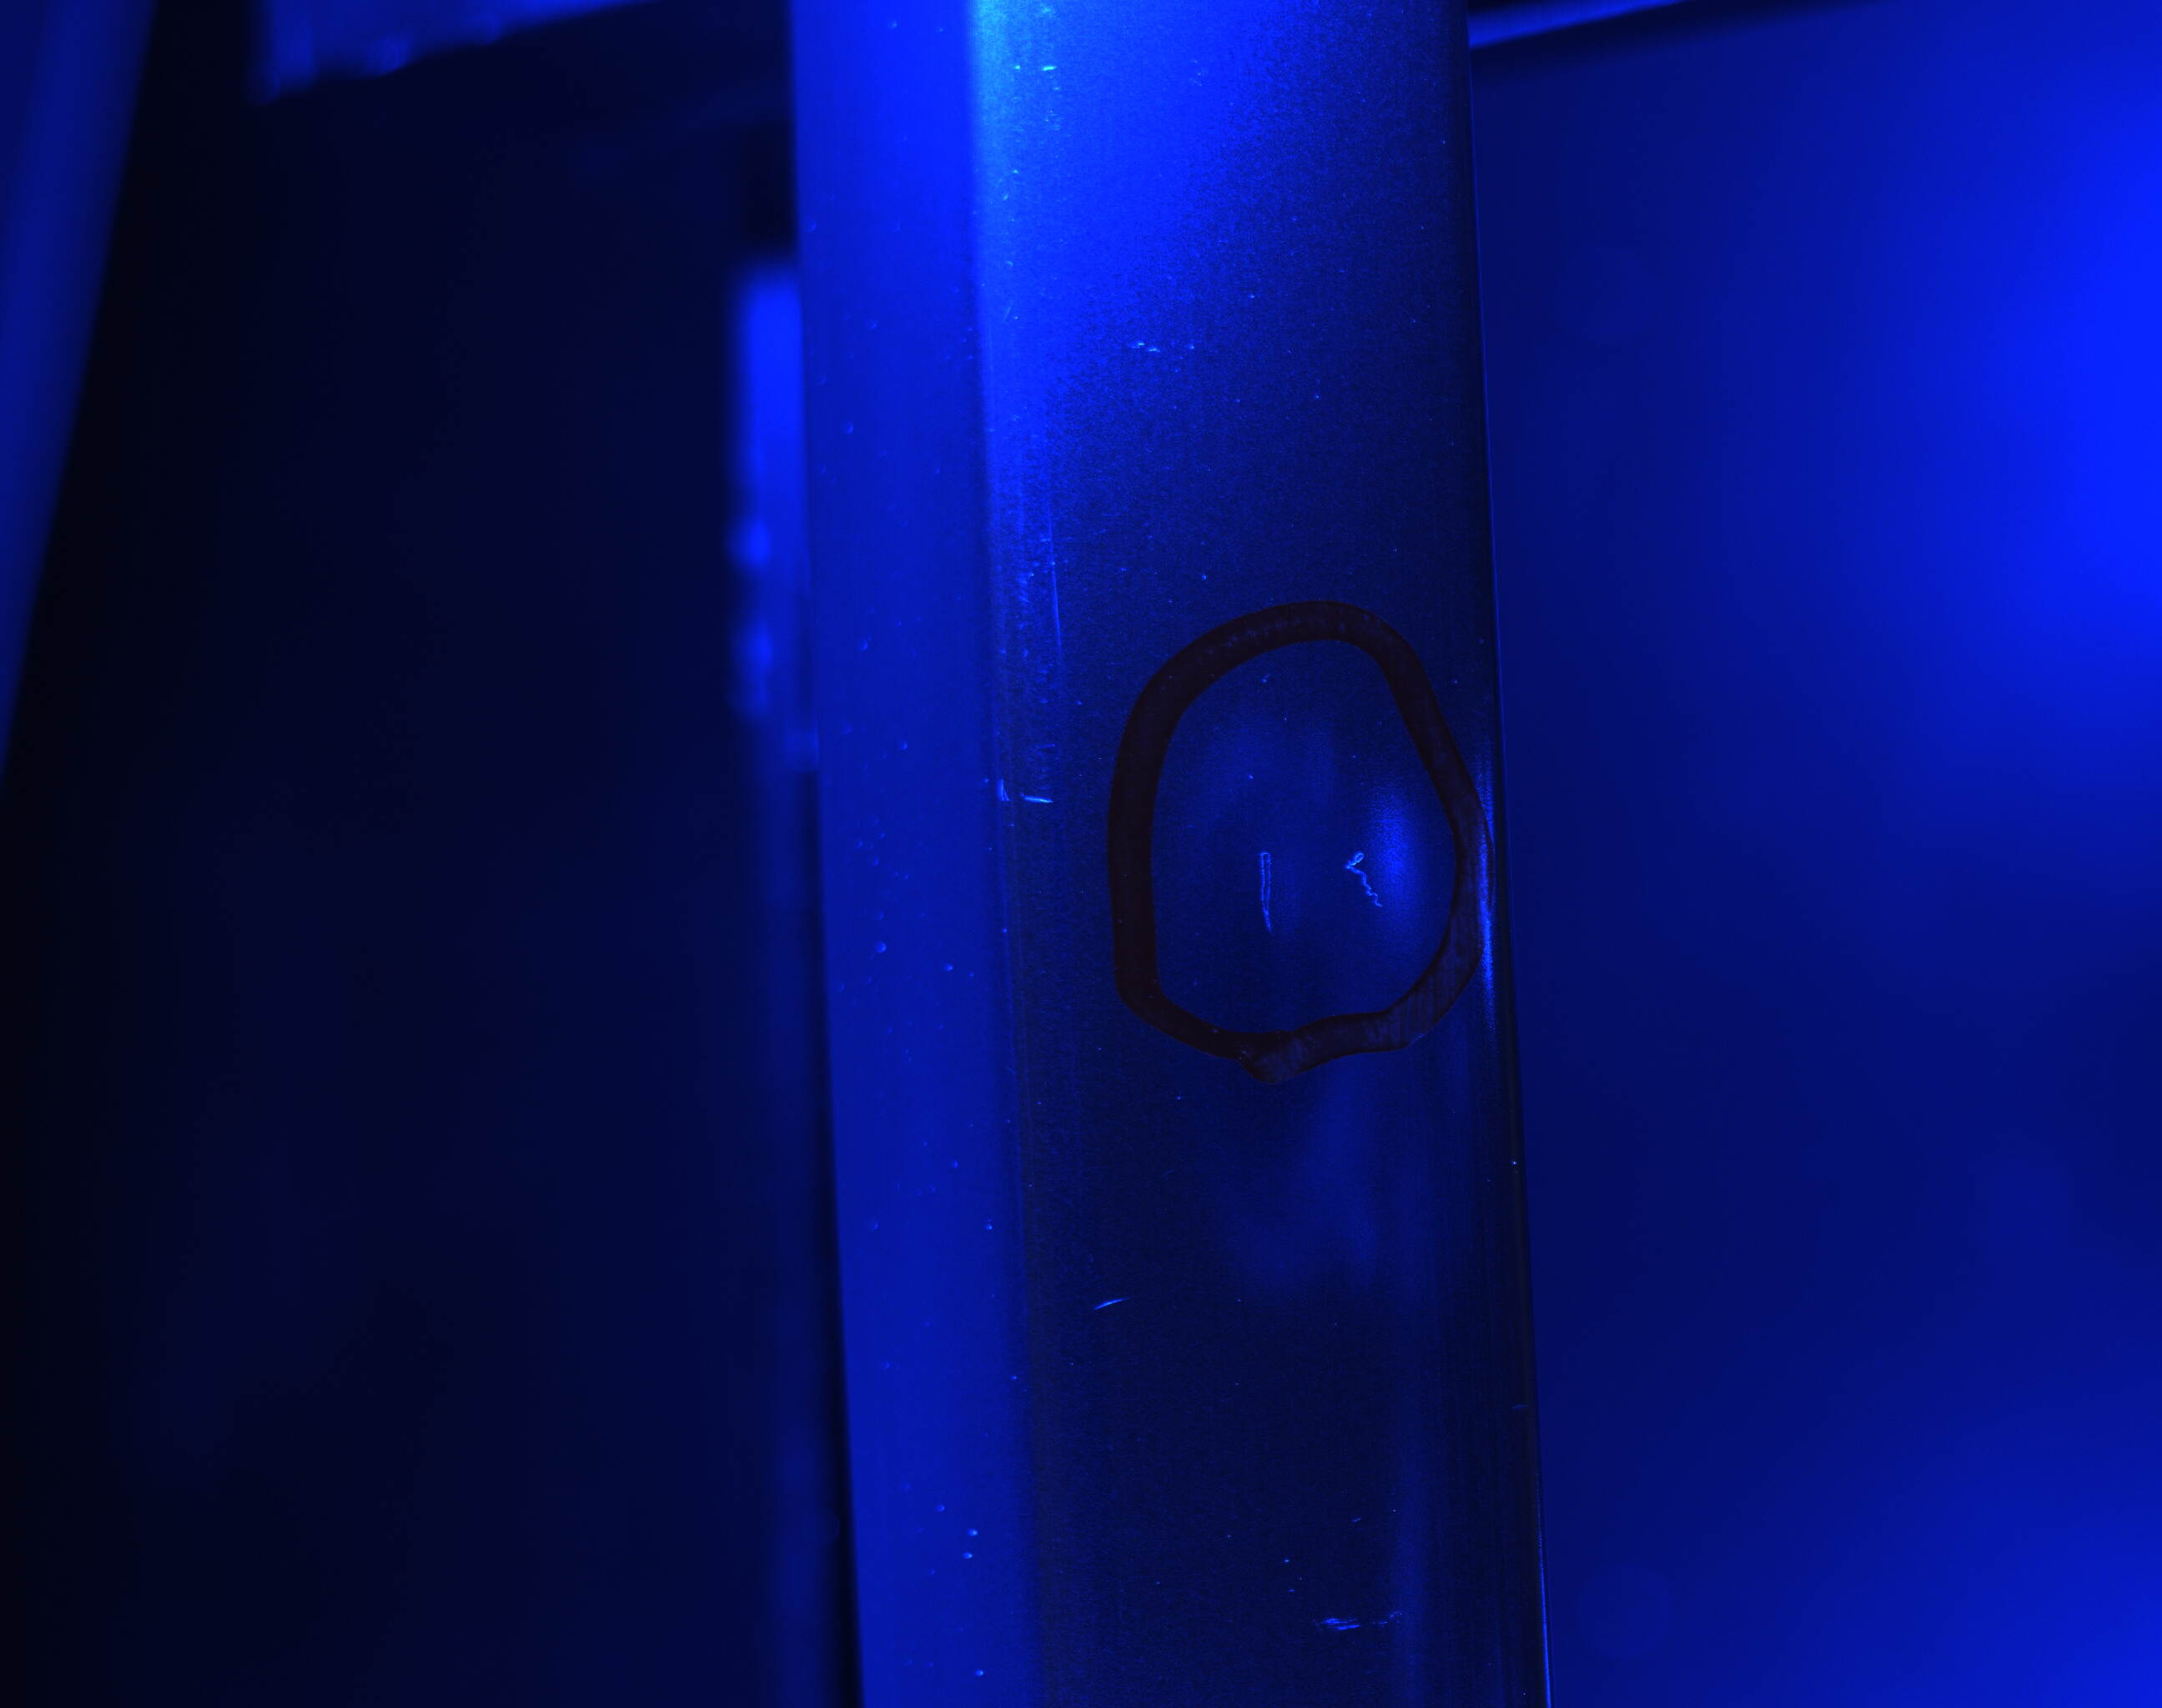NG: (1255, 825, 1386, 962), (1285, 1578, 1427, 1657), (1081, 1294, 1163, 1348), (1013, 772, 1063, 841)
